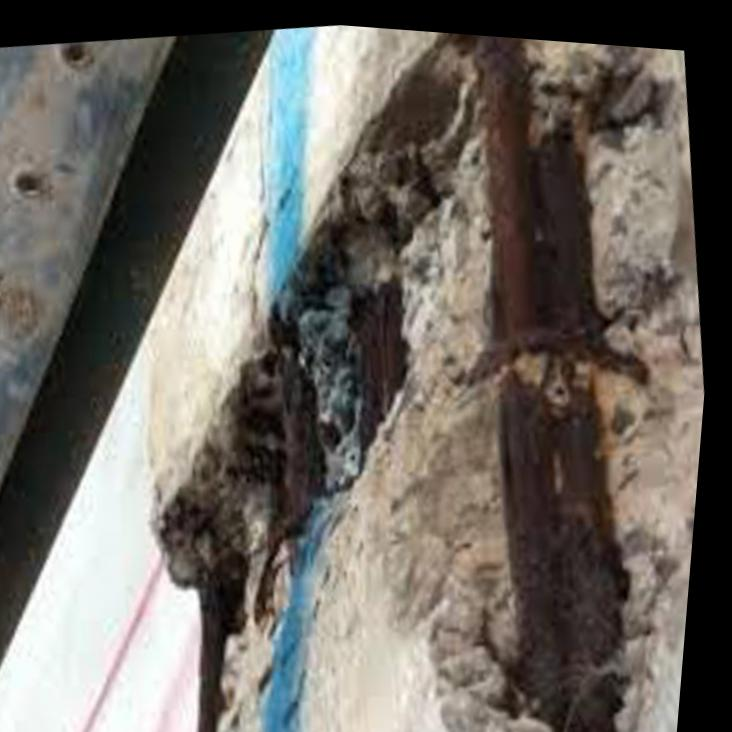damage: (166, 26, 708, 732)
